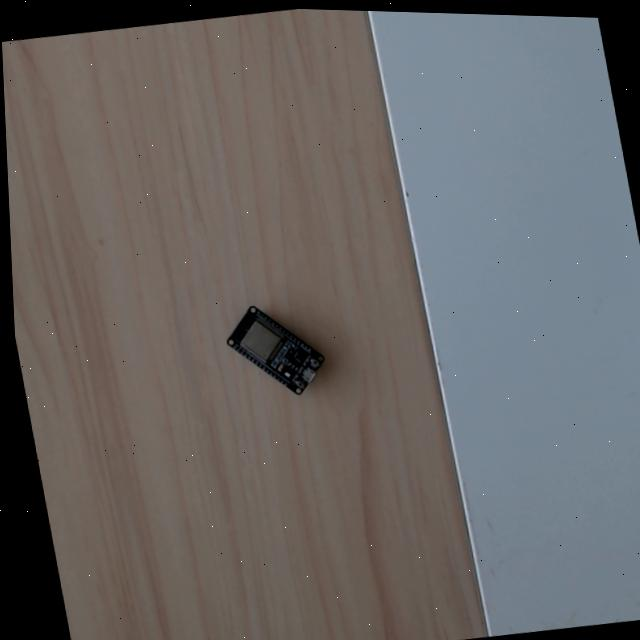ESP32-DevKit: (219, 302, 326, 399)
